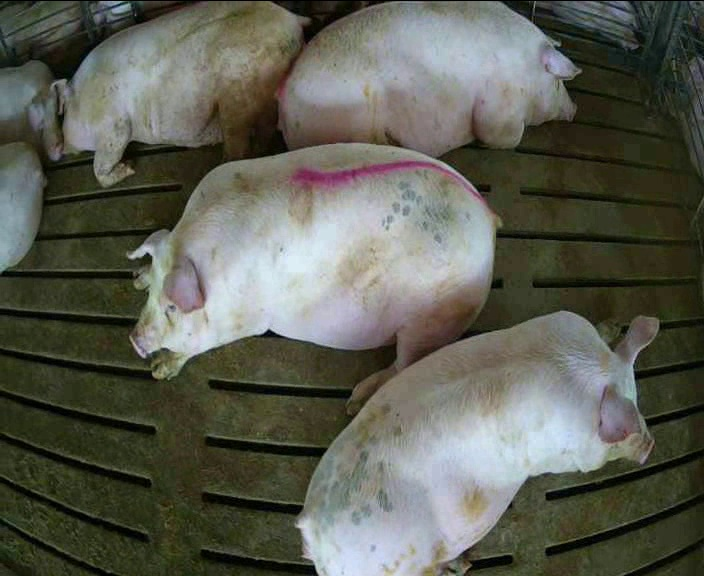pig: (129, 144, 495, 413), (297, 312, 657, 575), (279, 2, 579, 156), (65, 2, 307, 186)
